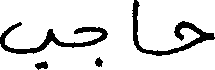ا: (130, 0, 140, 53)
ج: (72, 25, 108, 68)
ح: (171, 18, 213, 54)
ي: (0, 19, 53, 68)
